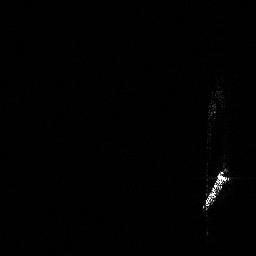ship: (197, 164, 233, 215)
